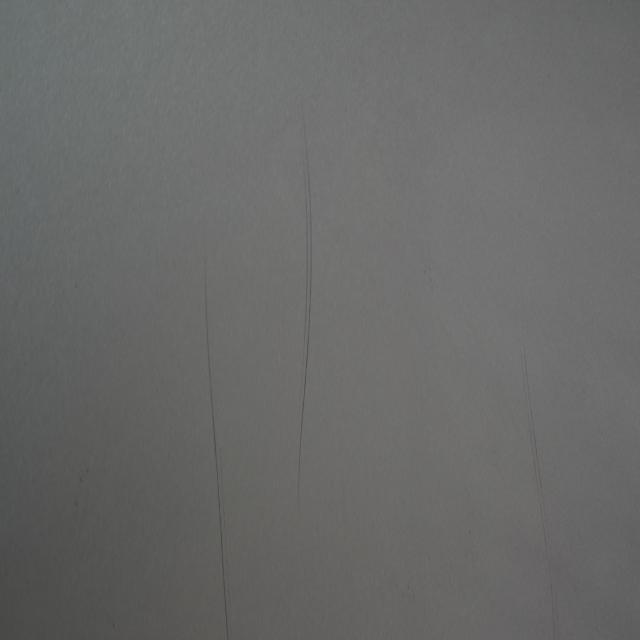scratch: (512, 311, 562, 640), (201, 250, 231, 640), (292, 97, 316, 529)
